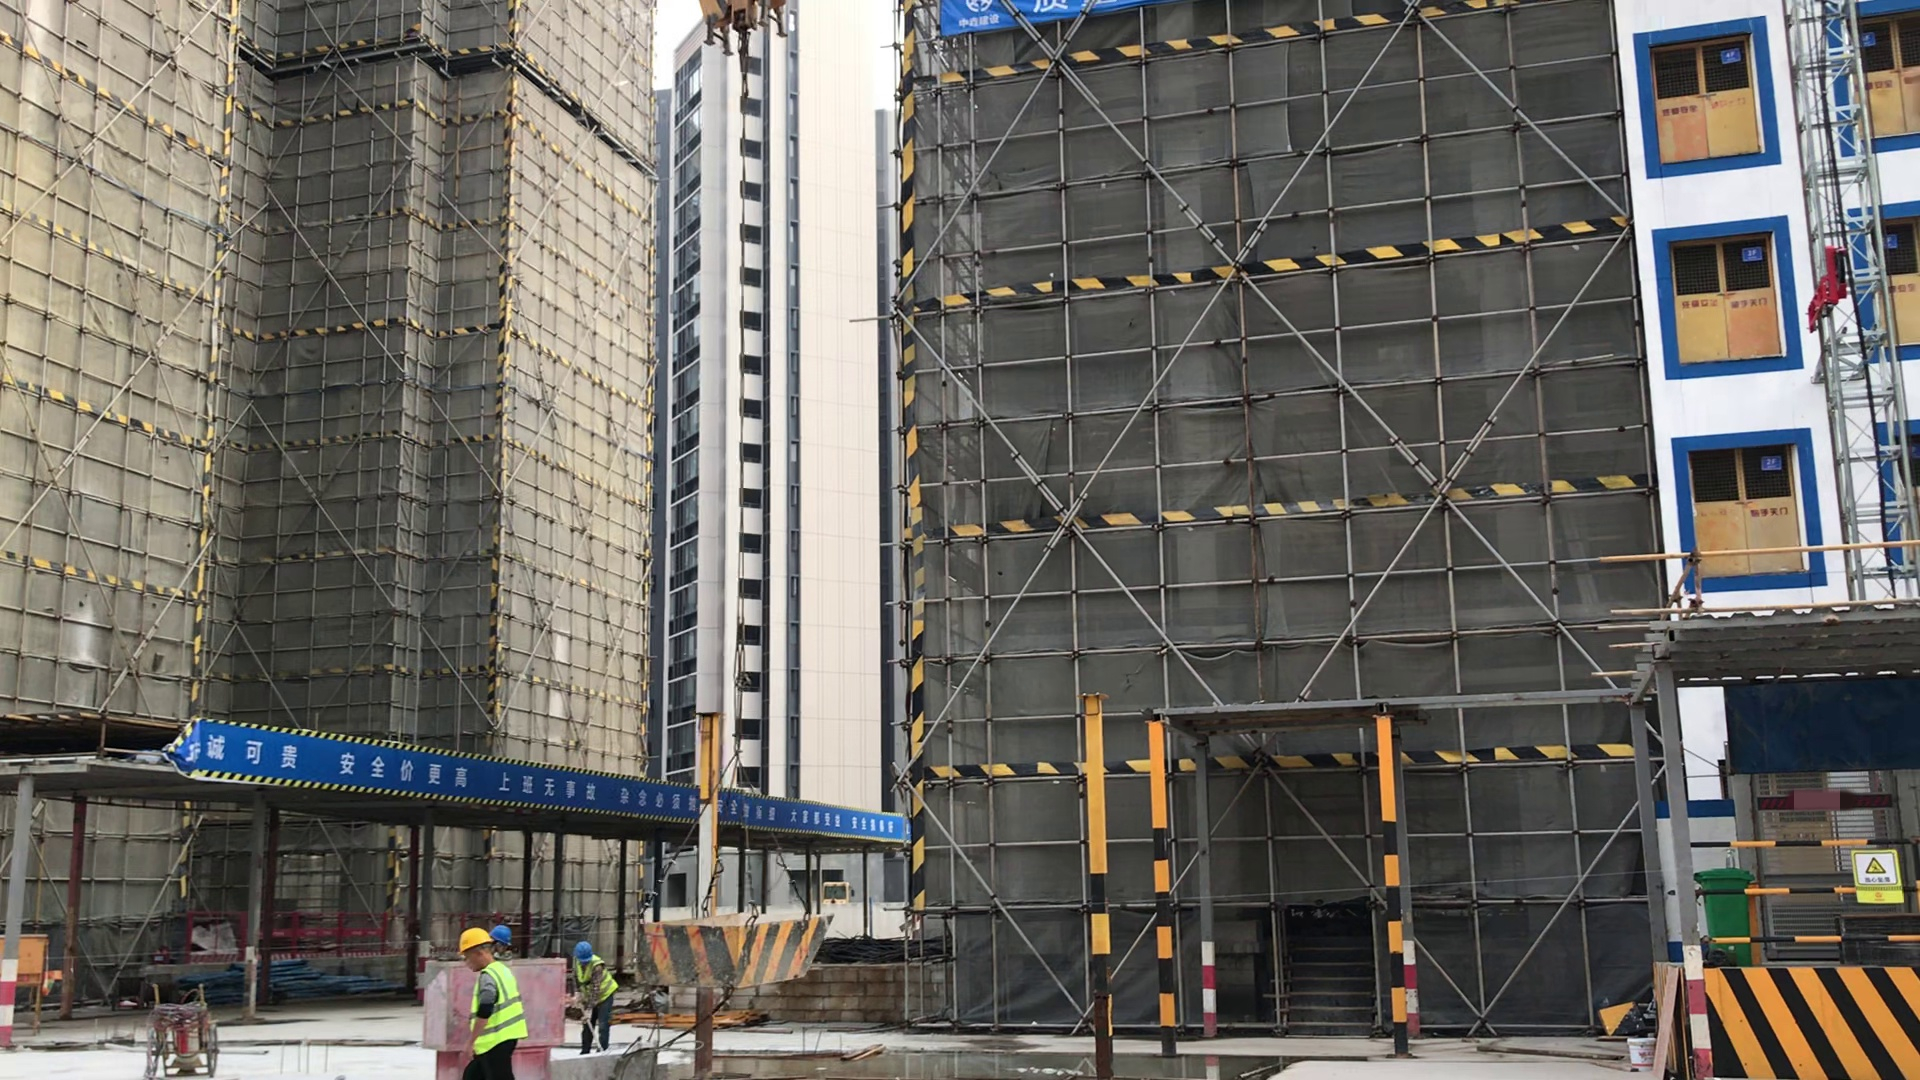fence: (185, 913, 458, 965)
handcart: (143, 980, 222, 1080)
helmet: (458, 927, 495, 955), (491, 924, 513, 946), (573, 941, 593, 962)
hook: (701, 1, 793, 45)
hopper: (623, 907, 833, 989)
person: (454, 924, 530, 1080), (573, 943, 617, 1057)
slogan: (189, 718, 900, 846)
vest: (469, 961, 527, 1052), (573, 954, 615, 1006)
